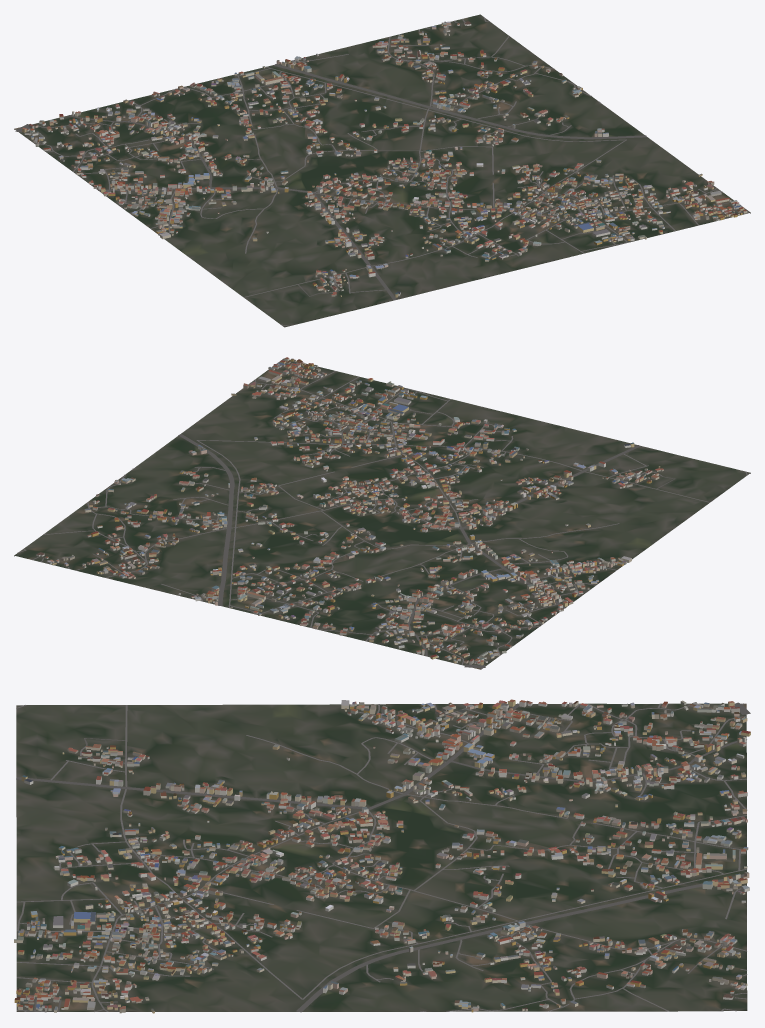
The picture shows the model from 3 angles, top to bottom: view 1: azimuth 30°, elevation 25°; view 2: azimuth 150°, elevation 25°; view 3: azimuth 270°, elevation 25°; orthographic projection. The views are drawn at different scales.
Parts seen in each view (by area): view 1: ground, buildings, roads; view 2: ground, buildings, roads; view 3: ground, buildings, roads.
Boxes of the visible parts, x1=… form: ground: x1=14, y1=14, x2=750, y2=327; buildings: x1=22, y1=21, x2=747, y2=297; roads: x1=15, y1=17, x2=748, y2=326; ground: x1=14, y1=358, x2=750, y2=669; buildings: x1=36, y1=357, x2=663, y2=665; roads: x1=17, y1=359, x2=747, y2=668; ground: x1=16, y1=703, x2=747, y2=1011; buildings: x1=14, y1=699, x2=750, y2=1013; roads: x1=16, y1=702, x2=750, y2=1012.
Size of the model in its own units: 1410 by 19.42 by 1414.
